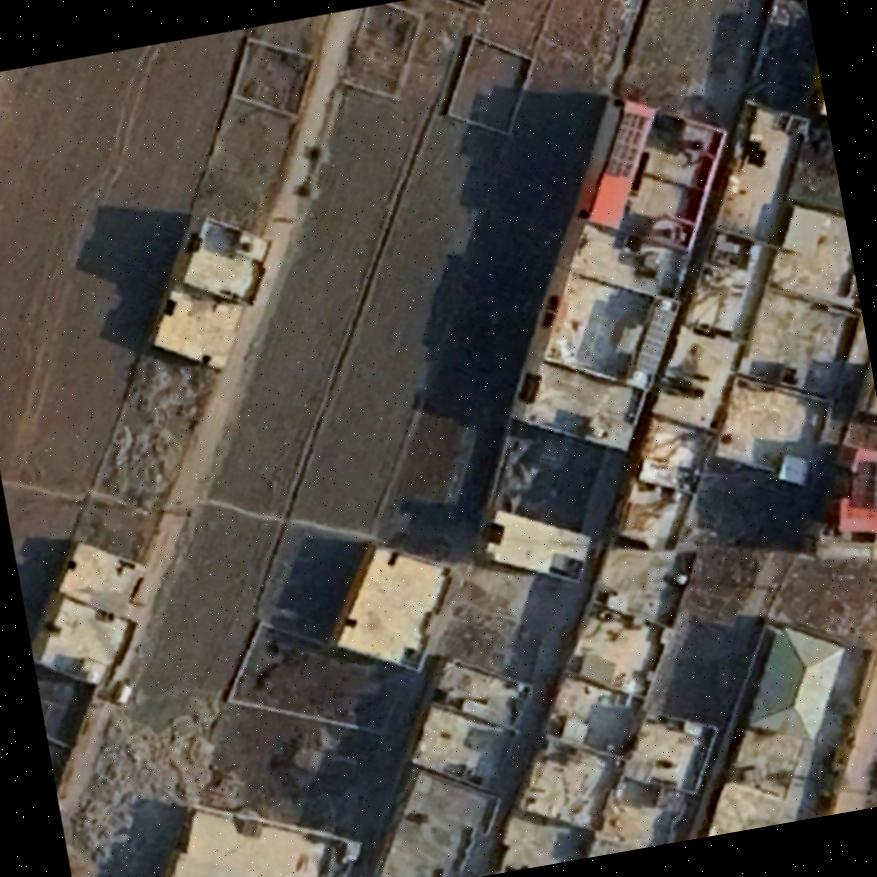Solarpanel: (630, 295, 680, 379), (599, 105, 650, 182), (861, 456, 877, 515)
